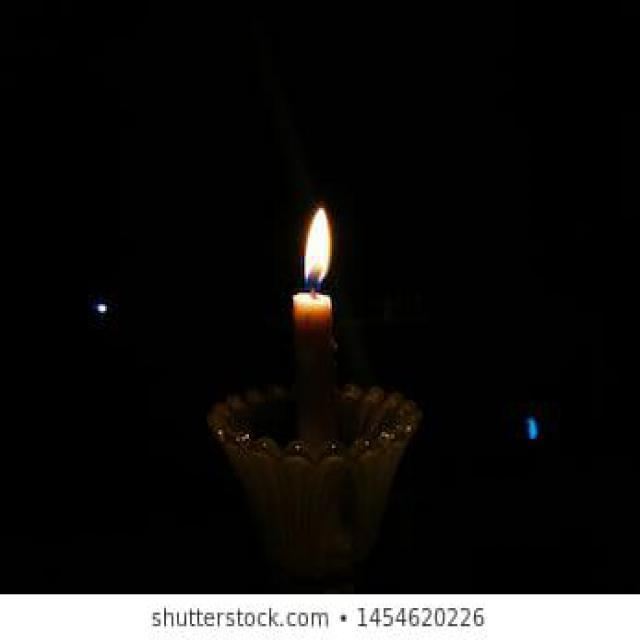Fire: (303, 208, 333, 290)
